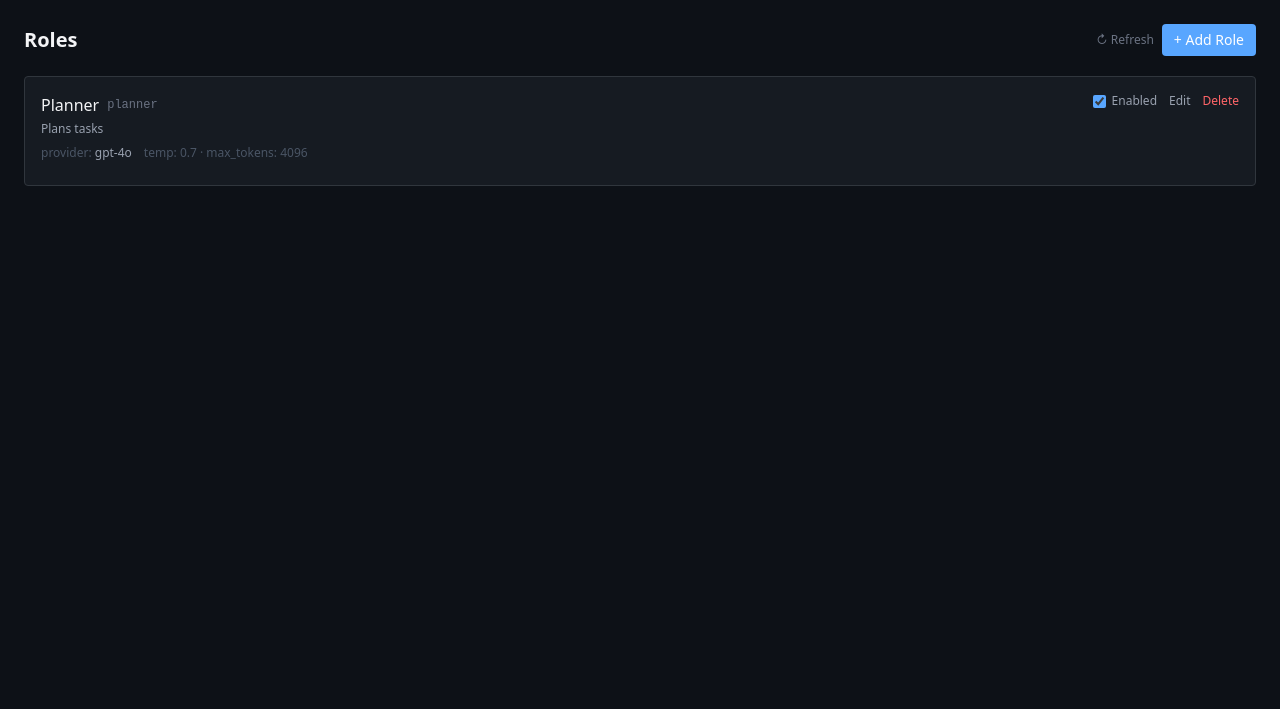
Test: Roles — provider dropdown filtering › falls back to all providers when no provider matches role name
The width and height of the screenshot is (1280, 709).
Click the button "+ Add Role". click: click(1209, 40)
box: [1162, 24, 1256, 56]
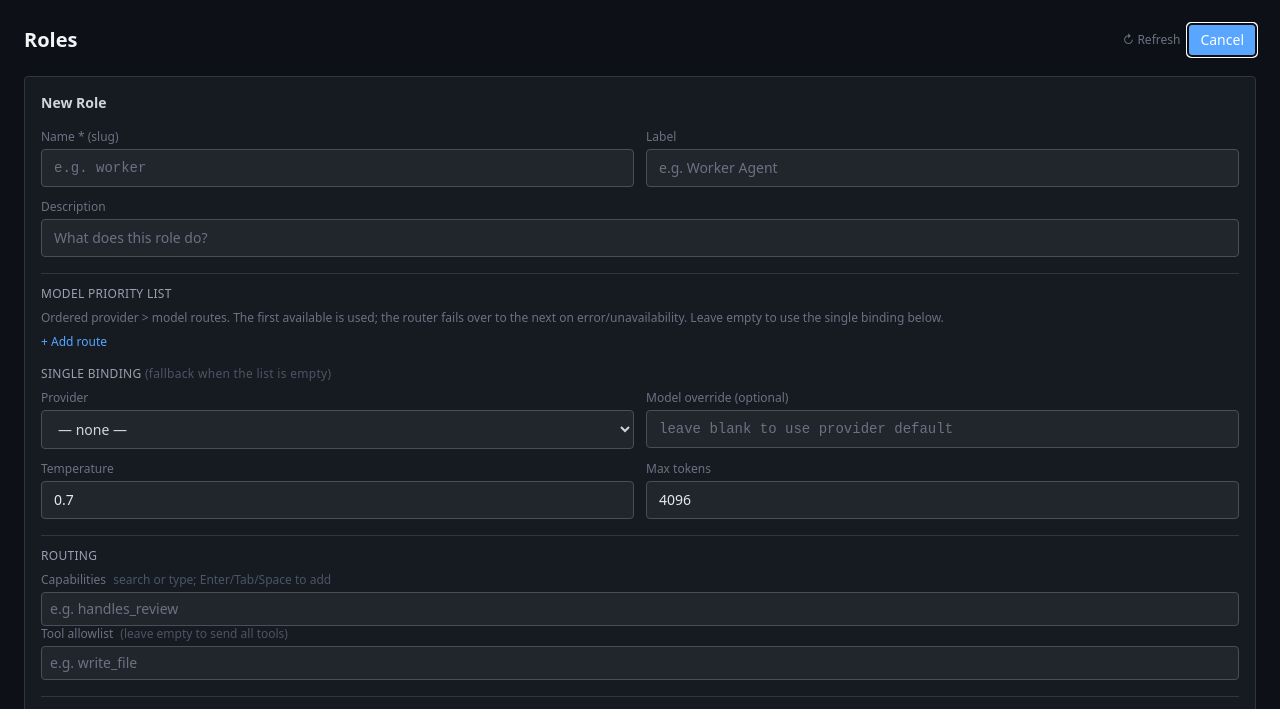
Now the field with placeholder "e.g. worker" is shown
Type "unmatched-role" into the field with placeholder "e.g. worker". click: (338, 168)
box: [41, 149, 634, 187]
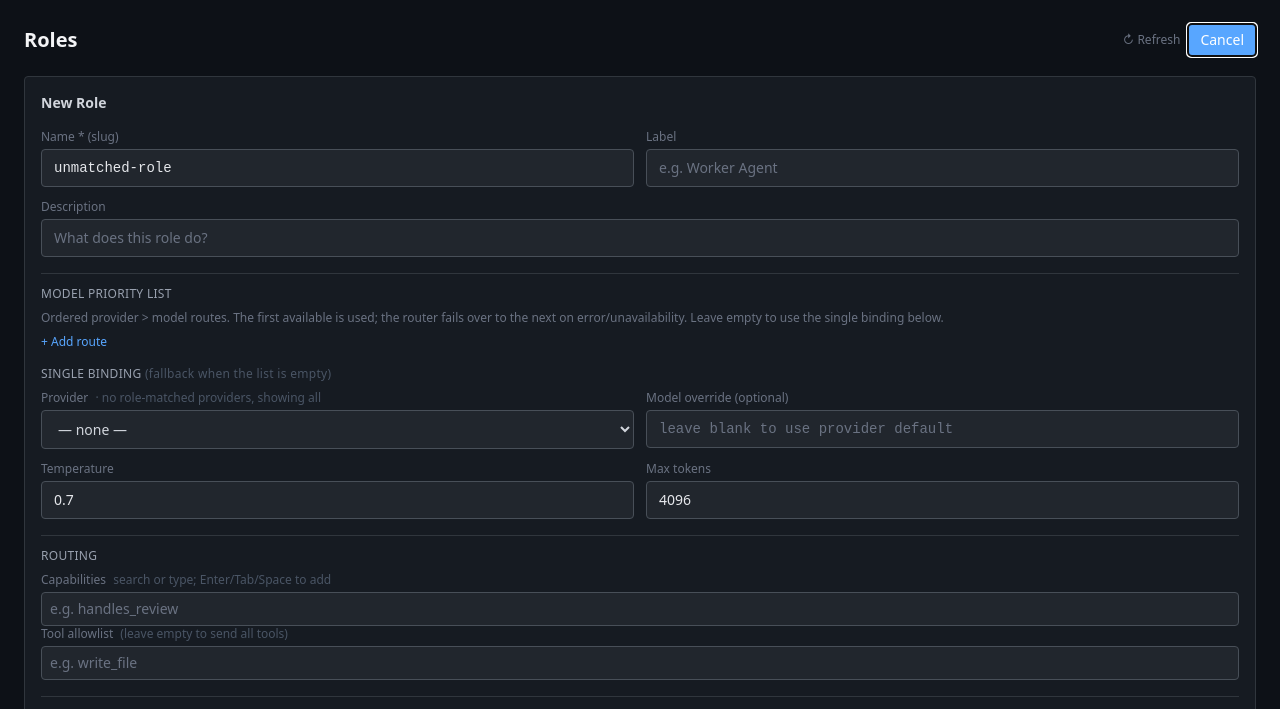
Now the text "· no role-matched providers, showing all" is shown, box [95, 389, 321, 406]
